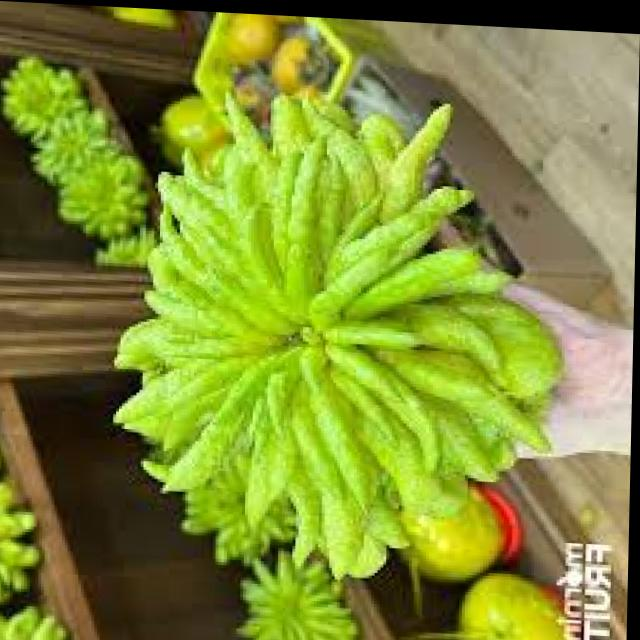PhatThu: (94, 65, 586, 577)
